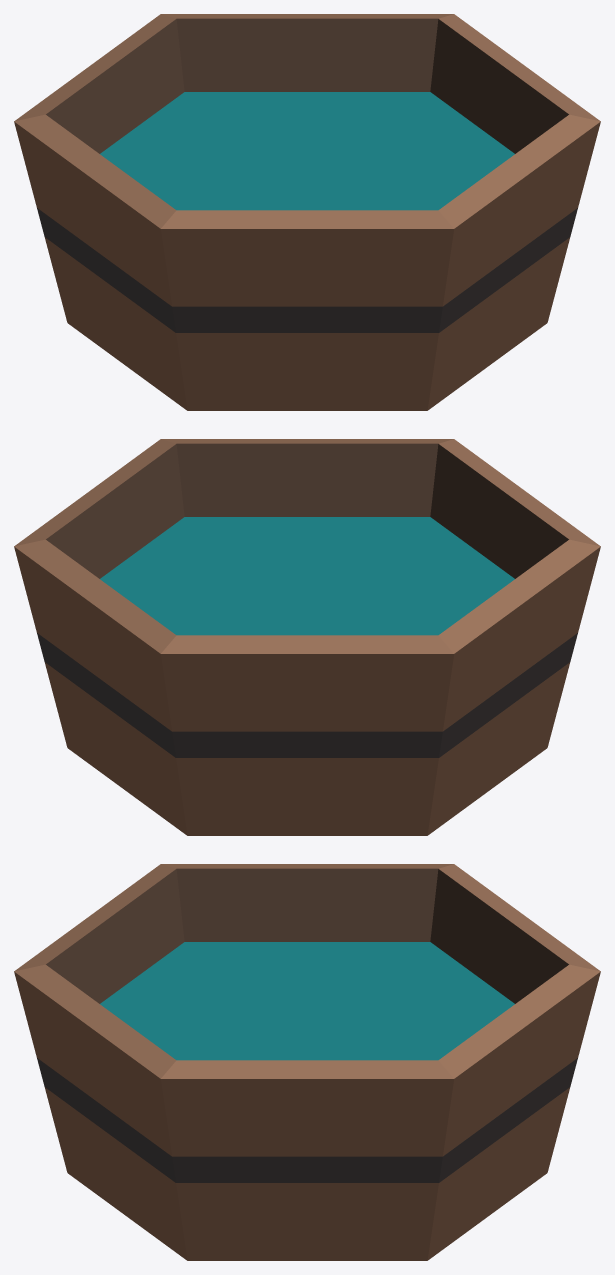
Rendered from TB_Prop_Bucket_Water_D.FBX.
3 views of the same model, one above another, from view 1: azimuth 30°, elevation 25°; view 2: azimuth 150°, elevation 25°; view 3: azimuth 270°, elevation 25° (orthographic).
Parts seen in each view (by area): view 1: TB_Prop_Bucket_Water_D; view 2: TB_Prop_Bucket_Water_D; view 3: TB_Prop_Bucket_Water_D.
Part boxes in pixels (<box>): TB_Prop_Bucket_Water_D: <box>14,14,600,410</box>; TB_Prop_Bucket_Water_D: <box>14,439,600,835</box>; TB_Prop_Bucket_Water_D: <box>14,864,600,1260</box>.
Size of the model in its own units: 0.9353 by 0.4233 by 1.08.
